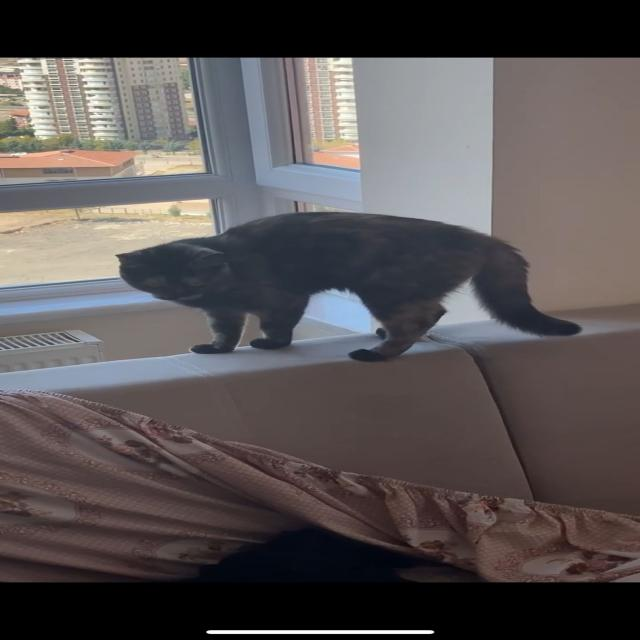authorized: (115, 210, 582, 362)
